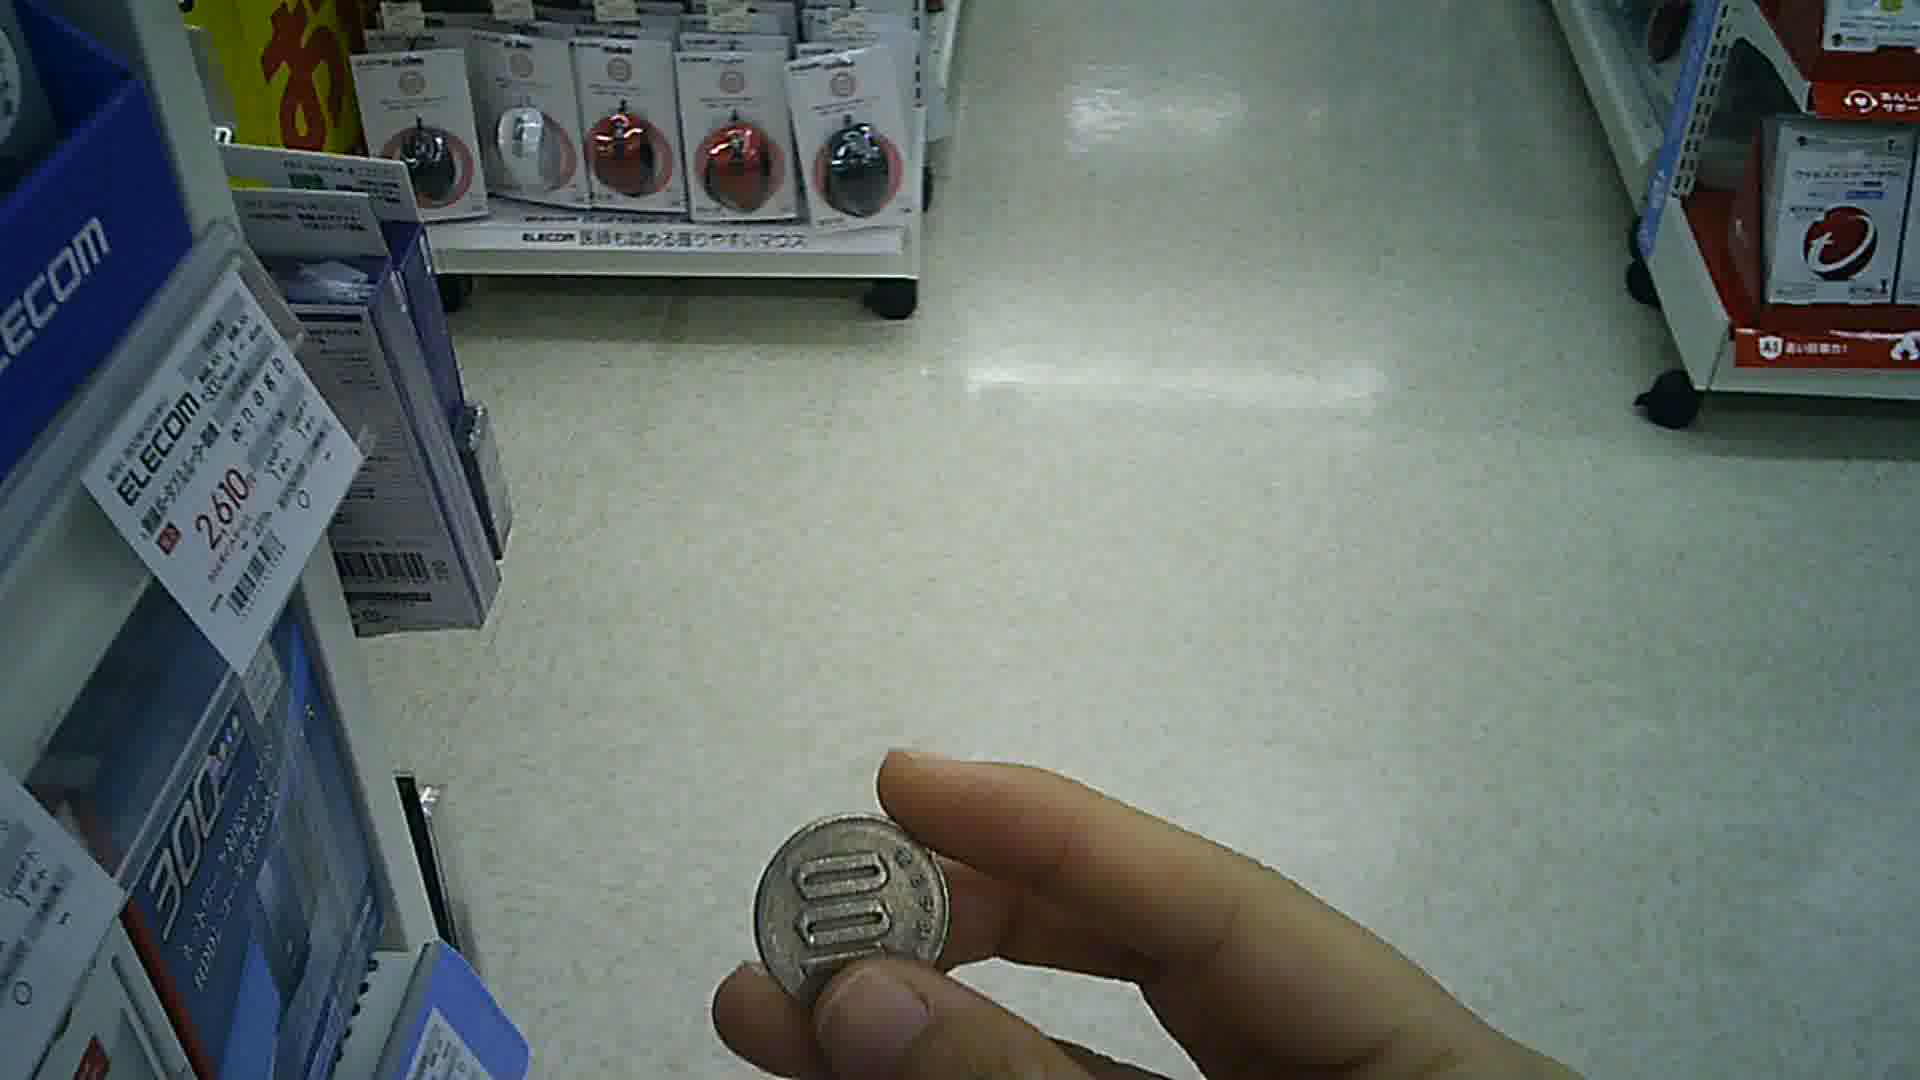100 Yen: (742, 807, 957, 1006)
